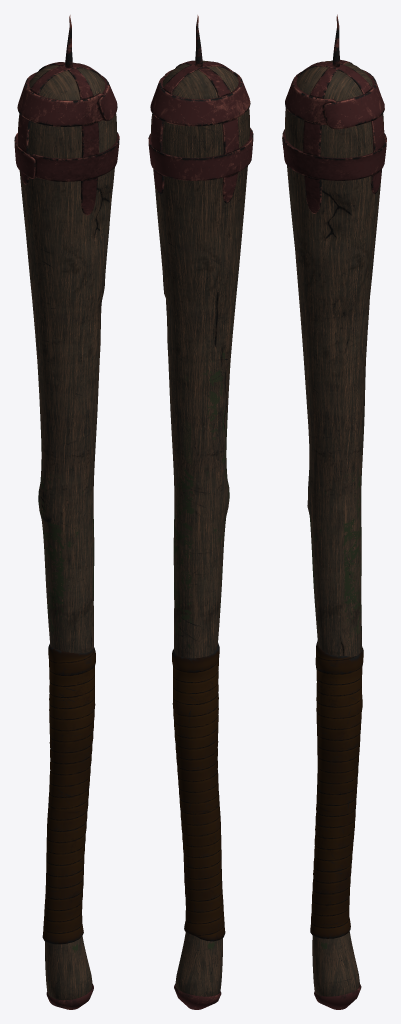
Rendered from sopa.fbx.
3 views of the same model, side by side, from view 1: azimuth 30°, elevation 25°; view 2: azimuth 210°, elevation 25°; view 3: azimuth 330°, elevation 25° (orthographic).
Parts seen in each view (by area): view 1: Cylinder.002; view 2: Cylinder.002; view 3: Cylinder.002.
Boxes of the visible parts, <box> form: Cylinder.002: <box>14,15,119,1009</box>; Cylinder.002: <box>148,15,253,1009</box>; Cylinder.002: <box>282,14,386,1009</box>.
Size of the model in its own units: 21.47 by 219 by 19.6.
